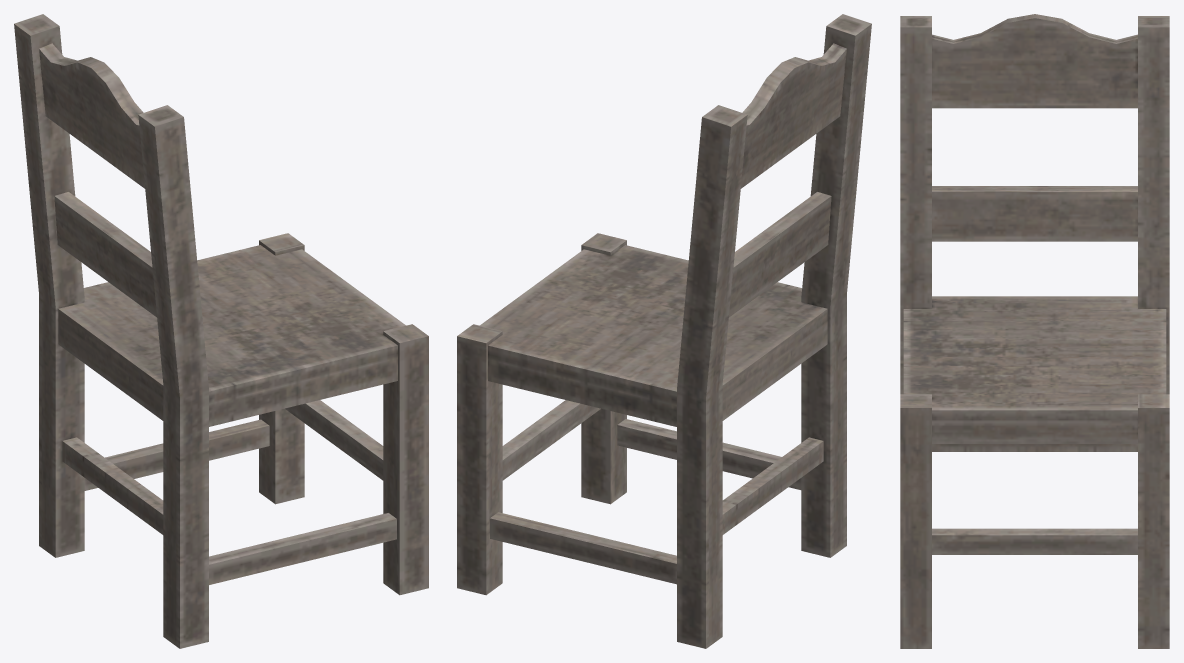
Rendered from SM_Chair_1.FBX.
The picture shows the model from 3 angles, left to right: view 1: azimuth 30°, elevation 25°; view 2: azimuth 150°, elevation 25°; view 3: azimuth 270°, elevation 25°; orthographic projection. The views are drawn at different scales.
Visible parts, largest first — view 1: SM_Chair_1; view 2: SM_Chair_1; view 3: SM_Chair_1.
Boxes of the visible parts, box(x1,y1,x2,y2) form: SM_Chair_1: box(14, 14, 428, 648); SM_Chair_1: box(457, 14, 871, 648); SM_Chair_1: box(900, 14, 1169, 648).
Size of the model in its own units: 56.2 by 105 by 50.
